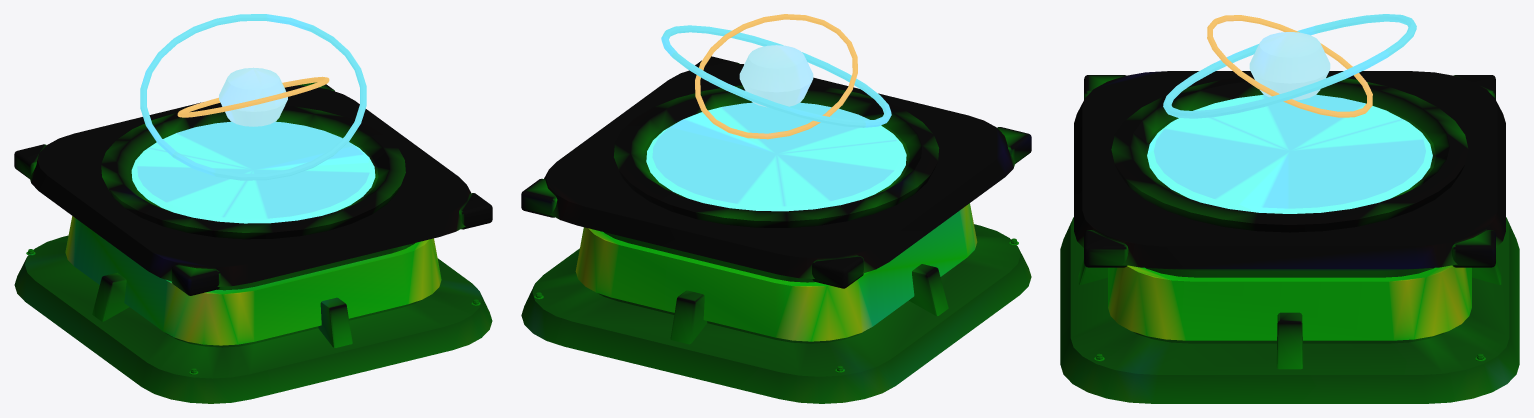
The model's file is hero_star_table.glb.
The picture shows the model from 3 angles, left to right: view 1: azimuth 30°, elevation 25°; view 2: azimuth 150°, elevation 25°; view 3: azimuth 270°, elevation 25°; orthographic projection. The views are drawn at different scales.
Visible parts, largest first — view 1: HeroStarTable; view 2: HeroStarTable; view 3: HeroStarTable.
Part boxes in pixels (x1,y1,x2,y2): HeroStarTable: [14, 14, 492, 403]; HeroStarTable: [521, 14, 1031, 403]; HeroStarTable: [1060, 14, 1519, 403].
Bounding box in the file's own units: 2.7 × 1.86 × 2.7.
